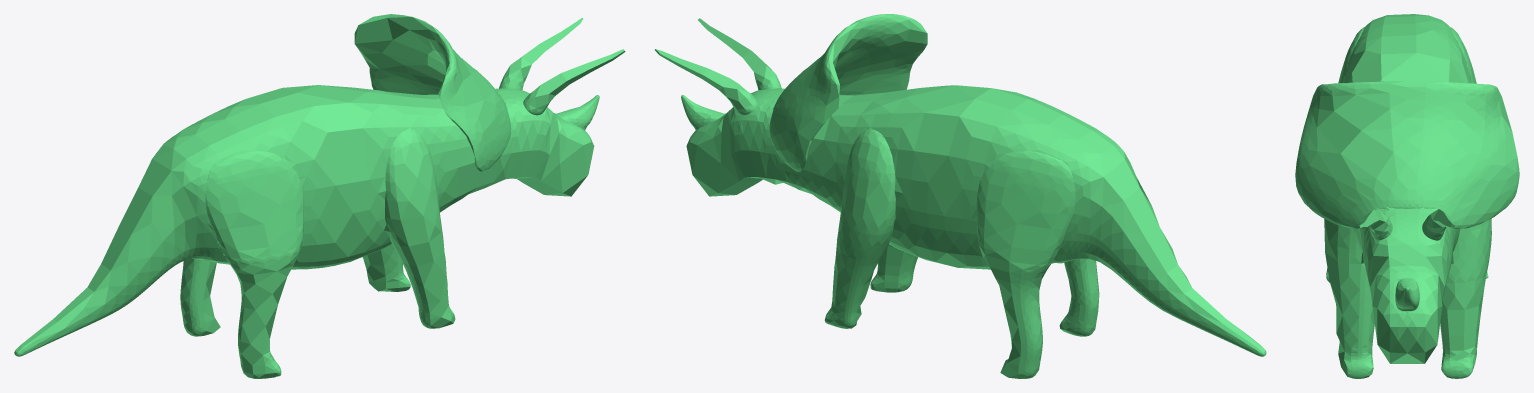
File: triceratops.glb
3 renders of one model, left to right at view 1: azimuth 30°, elevation 25°; view 2: azimuth 150°, elevation 25°; view 3: azimuth 270°, elevation 25°, orthographic. The views are drawn at different scales.
Parts seen in each view (by area): view 1: Base_mesh; view 2: Base_mesh; view 3: Base_mesh.
Part boxes in pixels (box(x1,y1,x2,y2)): Base_mesh: box(14, 14, 625, 378); Base_mesh: box(655, 14, 1266, 378); Base_mesh: box(1295, 14, 1519, 378).
Size of the model in its own units: 16.14 by 7.34 by 4.9.
